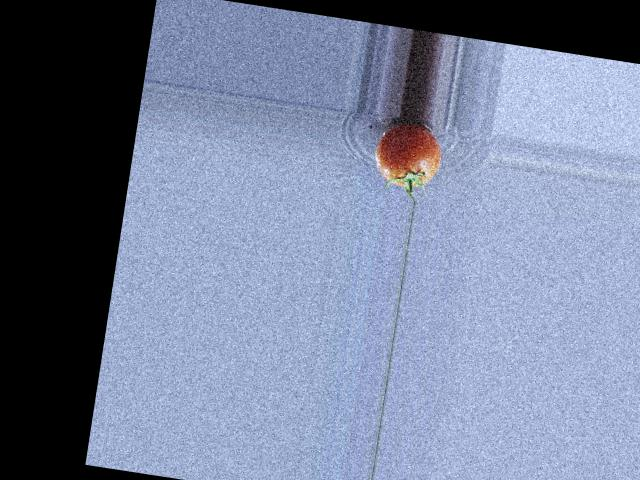tomato: (371, 118, 445, 190)
